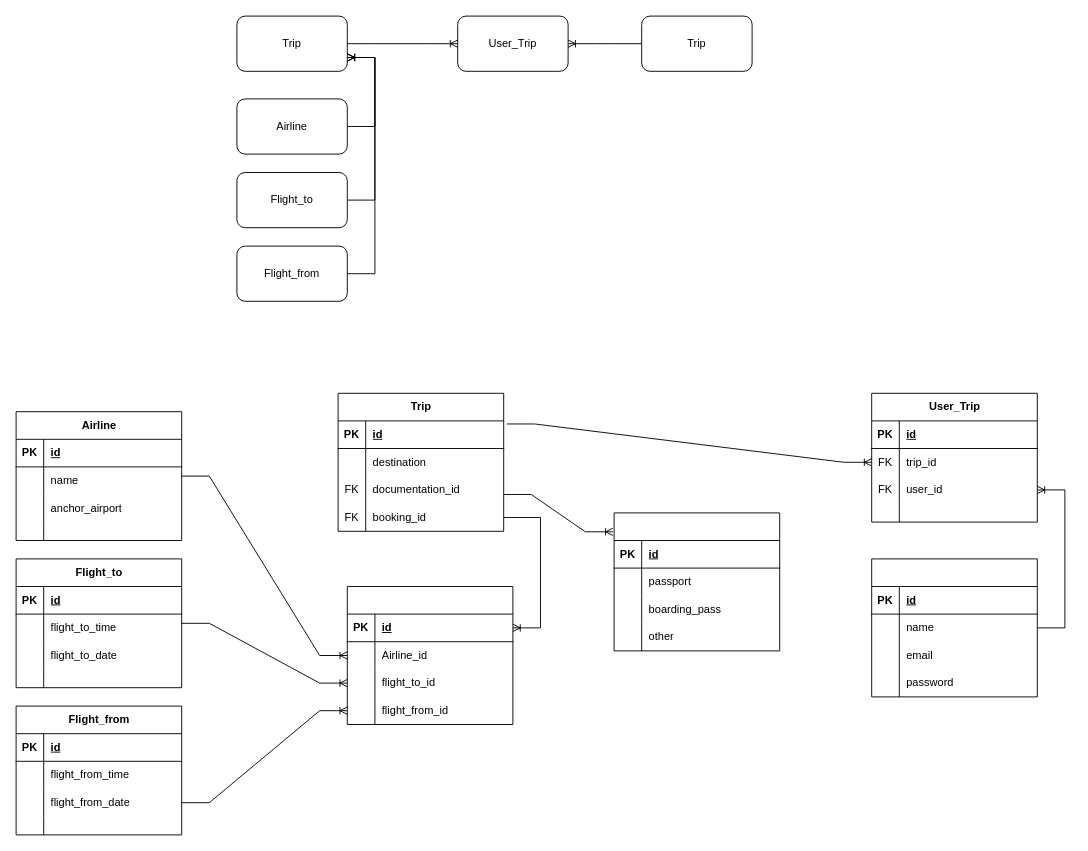
Image size: 1088x851. Some labels were removed from this diagram. The box of each missing label's shape, as (x1, y1, x2, y2) in pixels:
Booking: (346, 586, 513, 724)
documentaiton: (613, 512, 780, 651)
User: (871, 558, 1037, 697)
